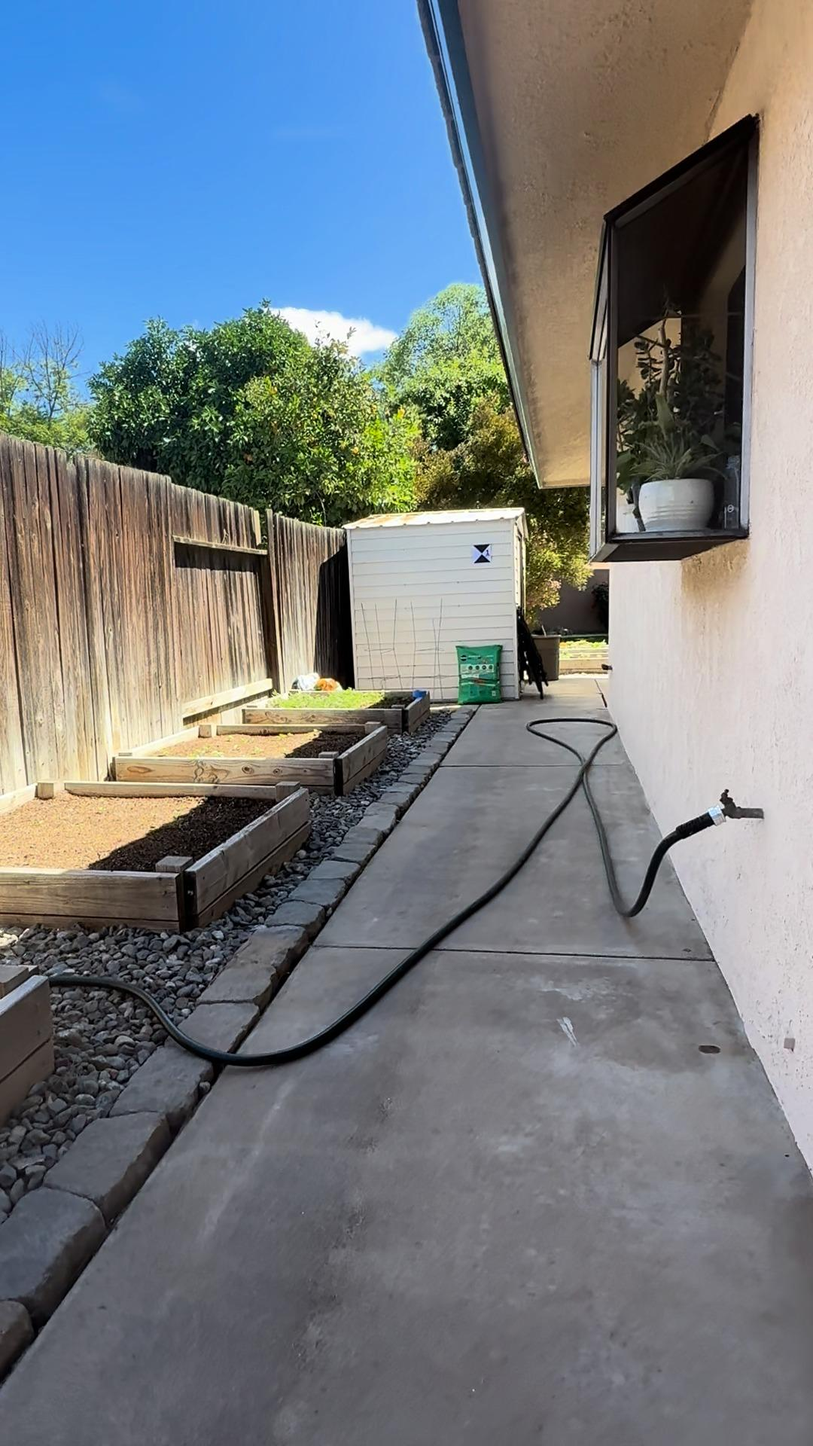target1: (471, 541, 494, 567)
